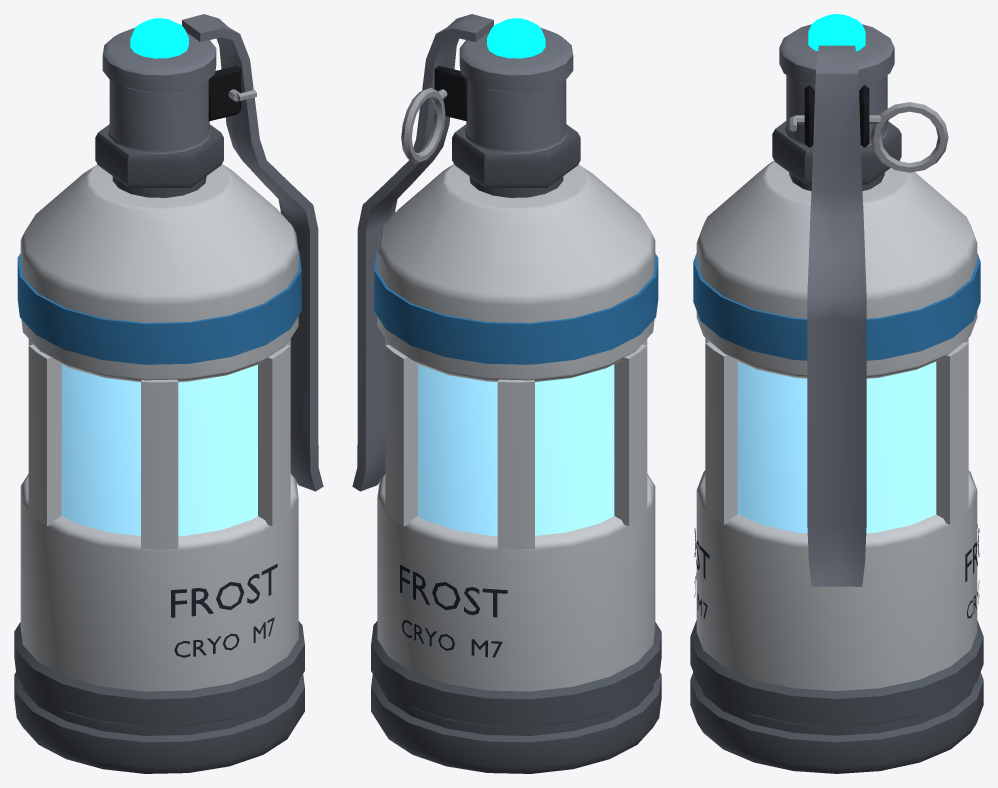
The model's file is Frost.fbx.
The picture shows the model from 3 angles, left to right: view 1: azimuth 30°, elevation 25°; view 2: azimuth 150°, elevation 25°; view 3: azimuth 270°, elevation 25°; orthographic projection.
Visible parts, largest first — view 1: Body_White, Vents, Body_Gunmetal, Band, Lever, FuseHead_Trim, FuseHead_Gunmetal, Fuse_Energy, Body_Stencil, FuseHead_Dark; view 2: Body_White, Vents, Body_Gunmetal, Band, Lever, FuseHead_Trim, FuseHead_Gunmetal, Fuse_Energy, Pin, Body_Stencil, FuseHead_Dark; view 3: Body_White, Lever, Body_Gunmetal, Vents, Band, FuseHead_Trim, FuseHead_Gunmetal, Pin, Fuse_Energy, FuseHead_Dark, Body_Stencil.
Boxes of the visible parts, <box> form: Body_White: <box>20,164,298,691</box>; Vents: <box>61,364,257,535</box>; Body_Gunmetal: <box>14,621,304,773</box>; Band: <box>17,251,301,364</box>; Lever: <box>182,14,323,491</box>; FuseHead_Trim: <box>102,28,216,153</box>; FuseHead_Gunmetal: <box>95,124,223,197</box>; Fuse_Energy: <box>130,18,188,58</box>; Body_Stencil: <box>171,563,277,657</box>; FuseHead_Dark: <box>208,66,241,121</box>; Body_White: <box>377,164,655,691</box>; Vents: <box>418,364,614,535</box>; Body_Gunmetal: <box>371,621,661,773</box>; Band: <box>374,251,658,364</box>; Lever: <box>352,14,493,491</box>; FuseHead_Trim: <box>459,28,573,153</box>; FuseHead_Gunmetal: <box>452,124,580,197</box>; Fuse_Energy: <box>487,18,545,58</box>; Pin: <box>401,87,447,163</box>; Body_Stencil: <box>400,564,507,657</box>; FuseHead_Dark: <box>434,66,467,121</box>; Body_White: <box>696,160,977,690</box>; Lever: <box>807,45,866,586</box>; Body_Gunmetal: <box>690,620,983,773</box>; Vents: <box>737,361,936,533</box>; Band: <box>693,253,980,360</box>; FuseHead_Trim: <box>779,24,894,147</box>; FuseHead_Gunmetal: <box>772,121,901,191</box>; Pin: <box>789,102,948,172</box>; Fuse_Energy: <box>808,14,865,51</box>; FuseHead_Dark: <box>804,85,869,147</box>; Body_Stencil: <box>694,524,979,618</box>.
Size of the model in its own units: 0.2296 by 0.55 by 0.209.
